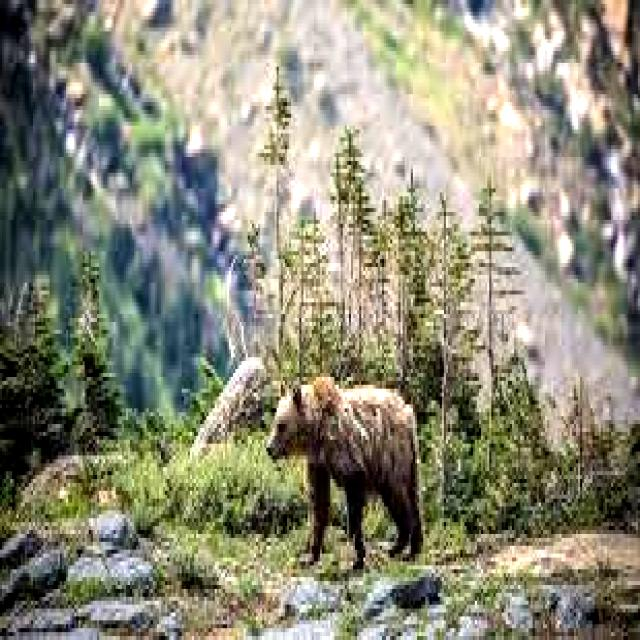bear: (266, 377, 430, 569)
